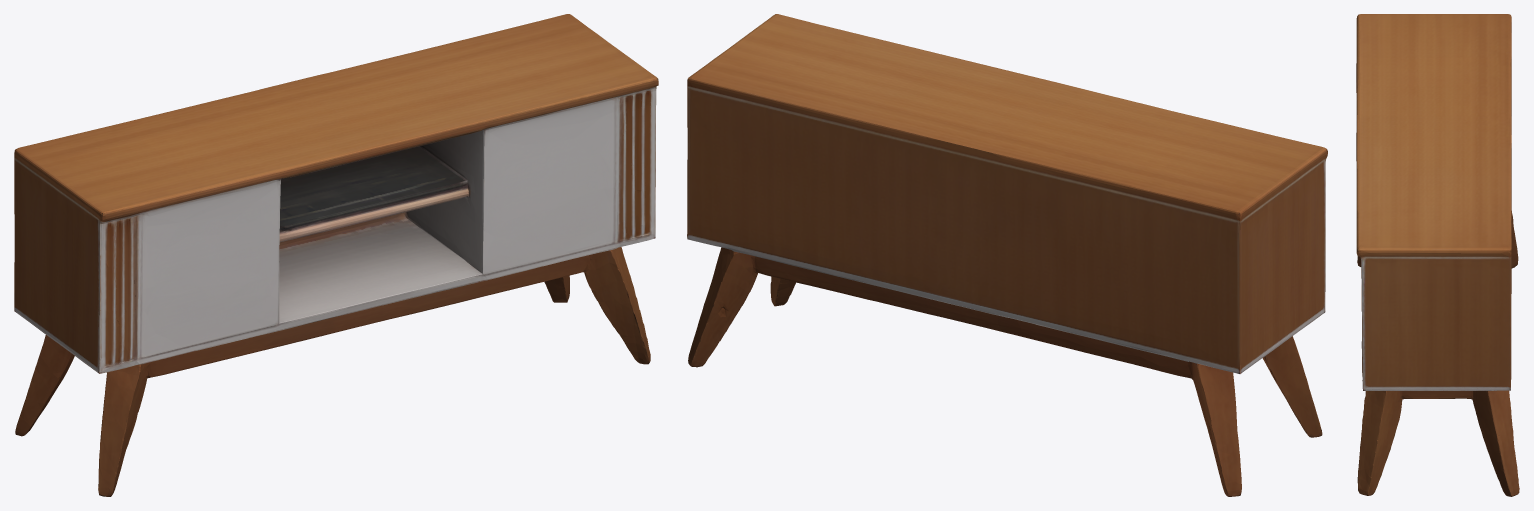
File: mwbr6854_tv_stand_vitta_offwhite_matte.glb
3 renders of one model, left to right at view 1: azimuth 30°, elevation 25°; view 2: azimuth 150°, elevation 25°; view 3: azimuth 270°, elevation 25°, orthographic. The views are drawn at different scales.
Visible parts, largest first — view 1: world; view 2: world; view 3: world.
Boxes of the visible parts, <box> form: world: <box>14,14,658,496</box>; world: <box>687,14,1327,496</box>; world: <box>1356,14,1519,496</box>.
Bounding box in the file's own units: 0.9991 × 0.4927 × 0.2914.
Materials: 1 (1 with a texture image).
